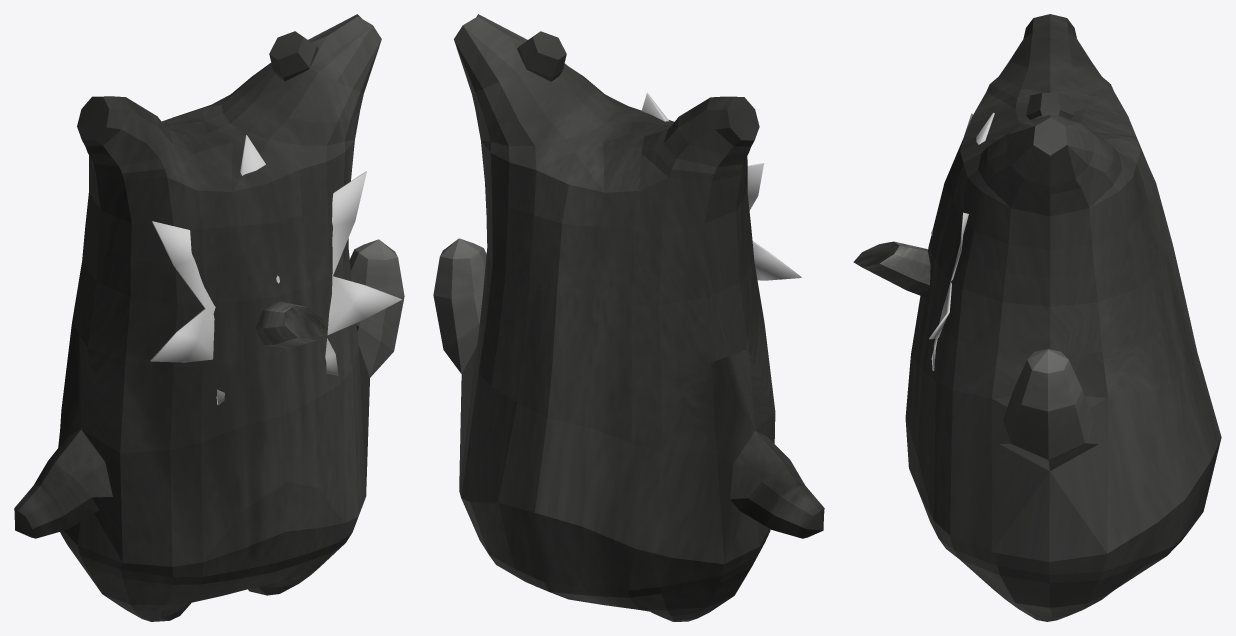
Rendered from frame_0042.obj.
The picture shows the model from 3 angles, left to right: view 1: azimuth 30°, elevation 25°; view 2: azimuth 150°, elevation 25°; view 3: azimuth 270°, elevation 25°; orthographic projection. The views are drawn at different scales.
Visible parts, largest first — view 1: korok, leaf, nose; view 2: korok, leaf; view 3: korok, nose, leaf.
Part boxes in pixels (x1,y1,x2,y2): korok: [14, 14, 404, 621]; leaf: [150, 135, 402, 405]; nose: [255, 301, 326, 348]; korok: [433, 14, 824, 621]; leaf: [641, 93, 801, 280]; korok: [905, 14, 1221, 621]; nose: [853, 241, 930, 297]; leaf: [929, 112, 994, 370].
Size of the model in its own units: 1.61 by 2.22 by 1.36.
